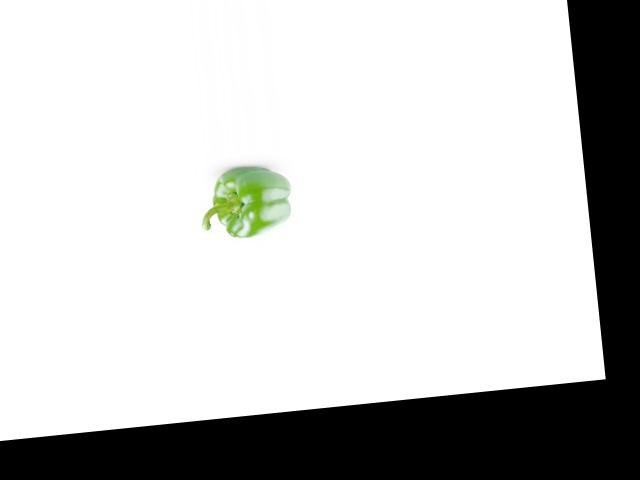bell_pepper: (194, 163, 297, 243)
